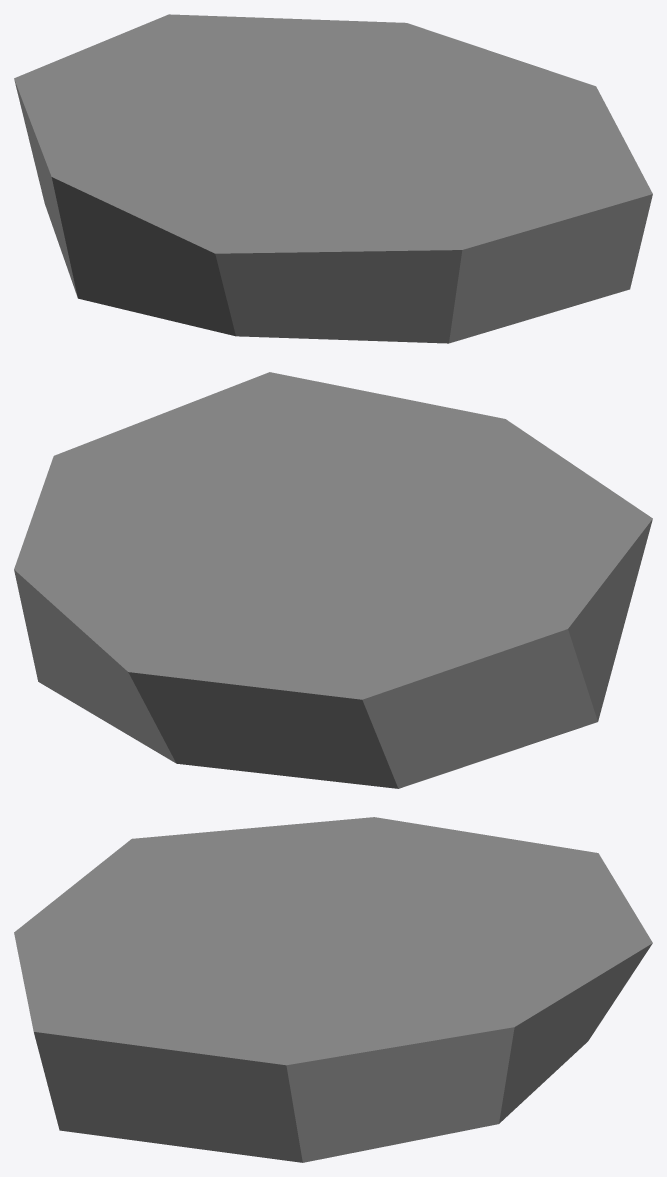
File: HardRock_26.fbx
The picture shows the model from 3 angles, top to bottom: view 1: azimuth 30°, elevation 25°; view 2: azimuth 150°, elevation 25°; view 3: azimuth 270°, elevation 25°; orthographic projection. The views are drawn at different scales.
Parts seen in each view (by area): view 1: HardRock_26; view 2: HardRock_26; view 3: HardRock_26.
Boxes of the visible parts, <box> form: HardRock_26: <box>14,14,652,343</box>; HardRock_26: <box>14,372,652,788</box>; HardRock_26: <box>14,817,652,1162</box>.
Bounding box in the file's own units: 169 × 33.02 × 184.
